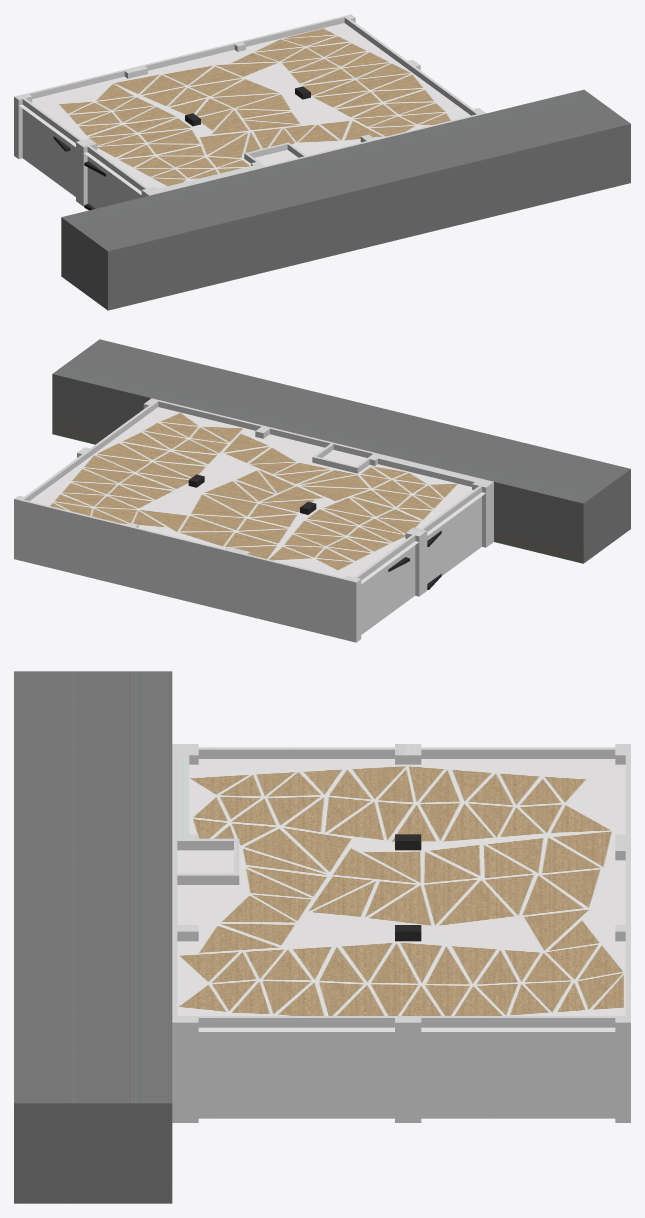
File: HOF.fbx
The picture shows the model from 3 angles, top to bottom: view 1: azimuth 30°, elevation 25°; view 2: azimuth 150°, elevation 25°; view 3: azimuth 270°, elevation 25°; orthographic projection. The views are drawn at different scales.
Parts seen in each view (by area): view 1: Environment, Top_Bottom; view 2: Environment, Top_Bottom; view 3: Environment, Top_Bottom.
Boxes of the visible parts, left/top/right/bottom form: Environment: left=14, top=14, right=630, bottom=310; Top_Bottom: left=19, top=23, right=470, bottom=195; Environment: left=14, top=339, right=630, bottom=642; Top_Bottom: left=30, top=407, right=485, bottom=584; Environment: left=14, top=671, right=630, bottom=1203; Top_Bottom: left=177, top=759, right=625, bottom=1031.
Size of the model in its own units: 3878 by 422 by 2340.
19 materials, 19 textured.
